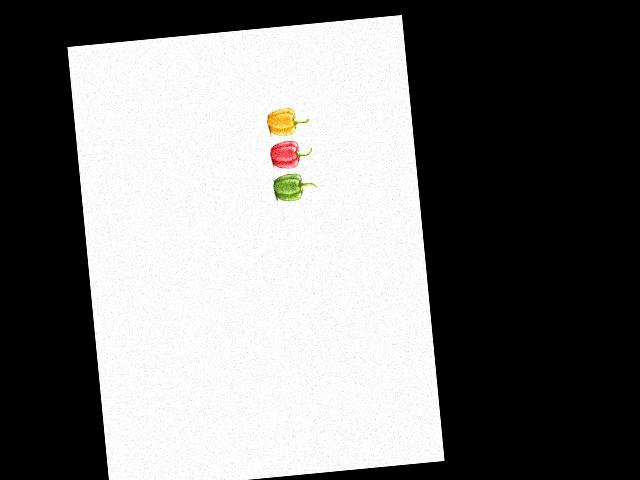bell_pepper: (270, 171, 317, 206)
